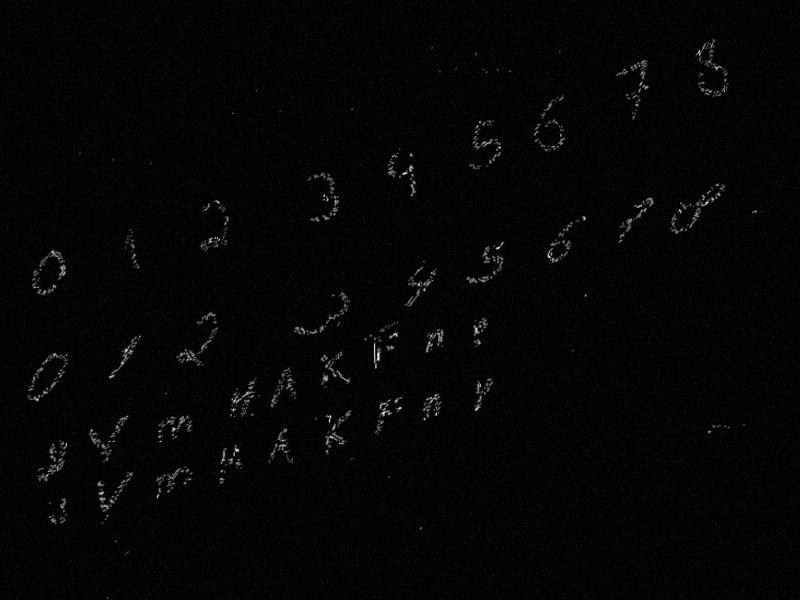0: (24, 343, 74, 407), (27, 244, 69, 301)
1: (100, 328, 145, 383), (117, 222, 143, 277)
2: (172, 309, 222, 377), (195, 191, 235, 258)
3: (291, 284, 353, 343), (301, 163, 343, 229)
4: (382, 141, 420, 208), (397, 255, 442, 310)
5: (464, 112, 505, 177), (463, 238, 508, 289)
6: (529, 90, 571, 161), (543, 212, 590, 269)
7: (609, 55, 655, 128), (612, 193, 657, 248)
8: (664, 169, 729, 242), (690, 31, 733, 108)
9: (744, 166, 762, 224)
A: (267, 423, 295, 473), (270, 362, 298, 410)
F: (372, 393, 405, 440), (370, 327, 400, 374)
H: (228, 375, 259, 423), (217, 439, 243, 485)
V: (91, 467, 137, 530), (84, 413, 131, 470)
k: (321, 403, 355, 457), (316, 345, 352, 395)
m: (152, 408, 196, 451), (153, 461, 196, 503)
n: (419, 390, 442, 424), (424, 324, 446, 358)
p: (471, 373, 494, 415), (471, 313, 491, 351)
u: (28, 434, 73, 492), (43, 491, 72, 532)
